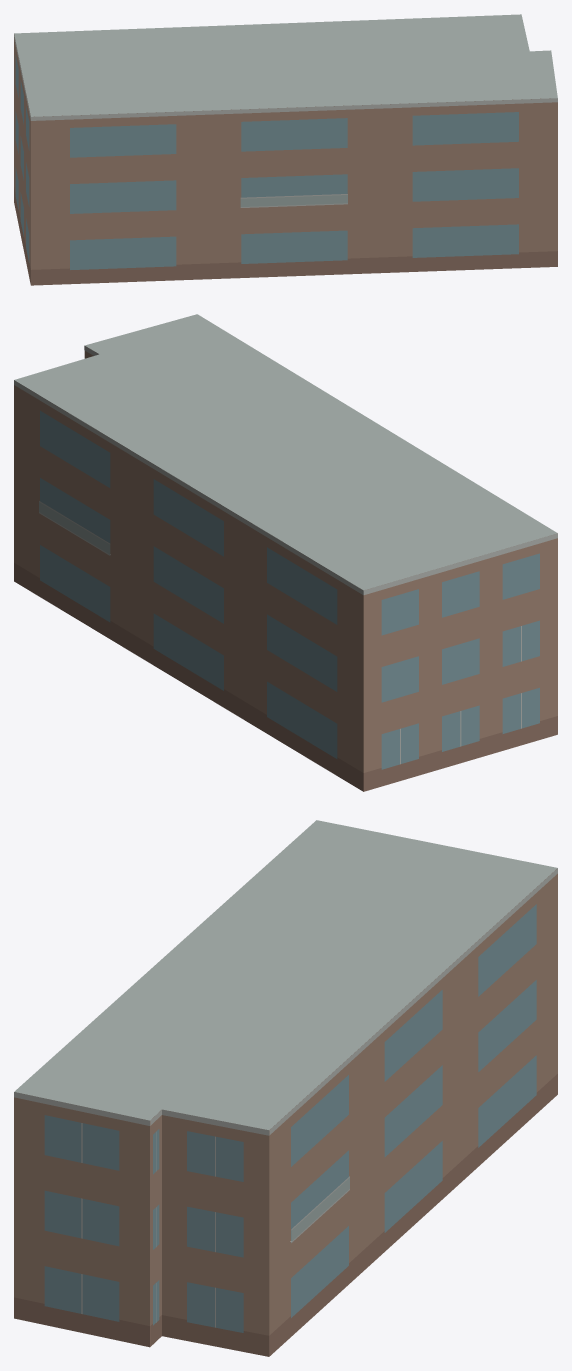
File: survey-upis-33017822.glb
3 renders of one model, top to bottom at view 1: azimuth 30°, elevation 25°; view 2: azimuth 150°, elevation 25°; view 3: azimuth 270°, elevation 25°, orthographic. The views are drawn at different scales.
Visible parts, largest first — view 1: survey-upis-33017822.tmp; view 2: survey-upis-33017822.tmp; view 3: survey-upis-33017822.tmp.
Part boxes in pixels (box(x1,y1,x2,y2)): survey-upis-33017822.tmp: box(14, 14, 557, 285); survey-upis-33017822.tmp: box(14, 314, 557, 791); survey-upis-33017822.tmp: box(14, 820, 557, 1356).
Bounding box in the file's own units: 29.36 × 10 × 21.76.
